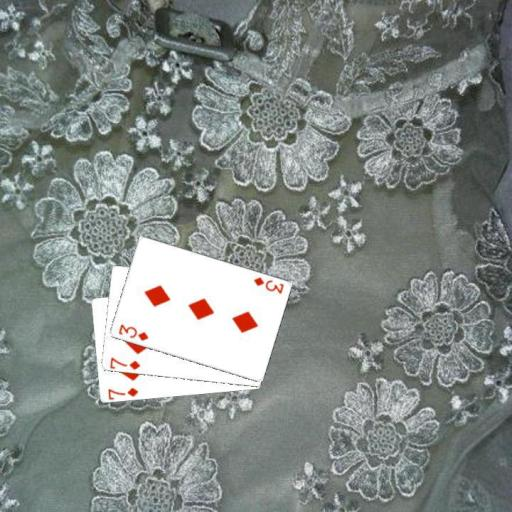3D: (115, 321, 150, 343), (250, 274, 285, 295)
7D: (107, 354, 142, 371), (105, 385, 140, 400)
